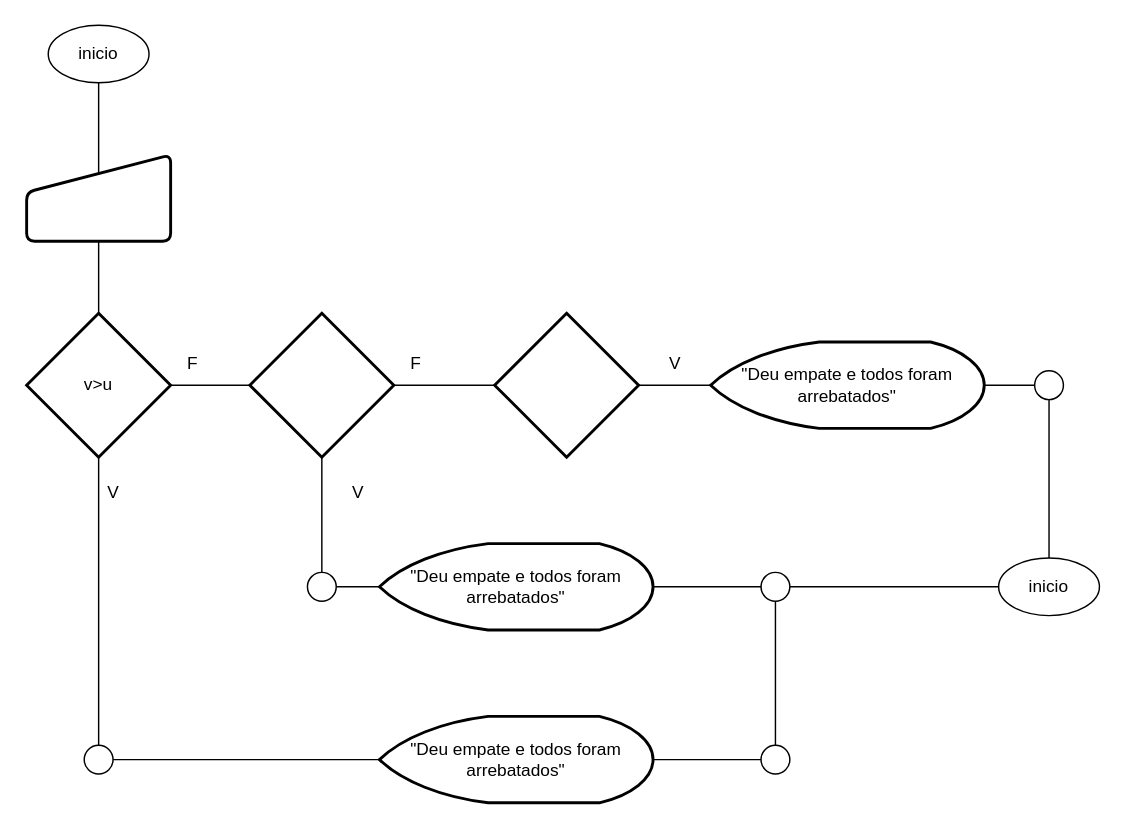
Some shapes in this 1125 by 829 pixel diagram are drawn without their labels. Here are the shapes that lost their labels. From the top down, the centre of each, then its label:
At [97,197]: "u,v".
At [321,384]: "v<u".
At [565,384]: "v==u".
